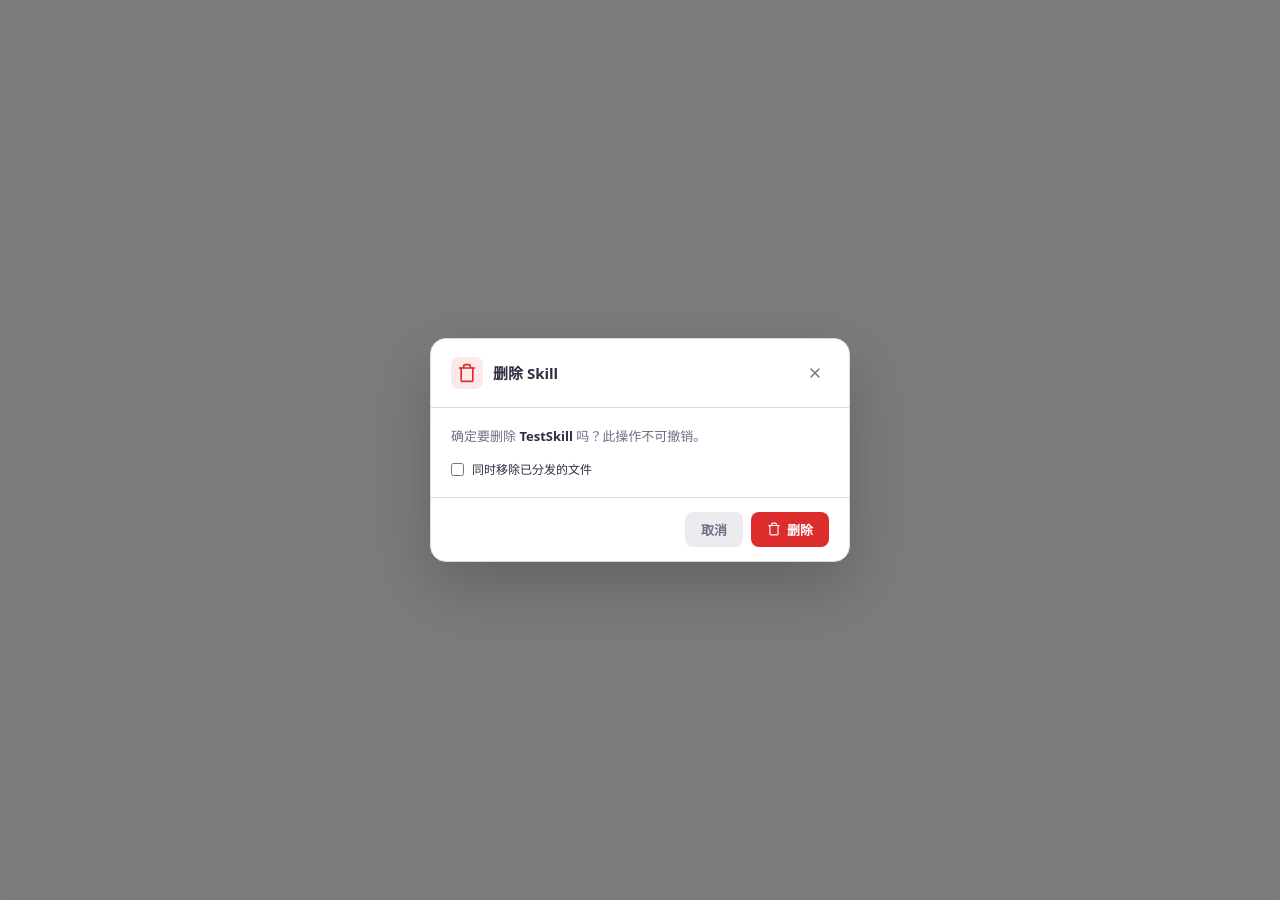
Test: ConfirmDeleteModal › checking remove distributed selects all platforms
Click the checkbox with class "remove-distributed-checkbox" at (458, 470), box x1=451 y1=463 x2=464 y2=476
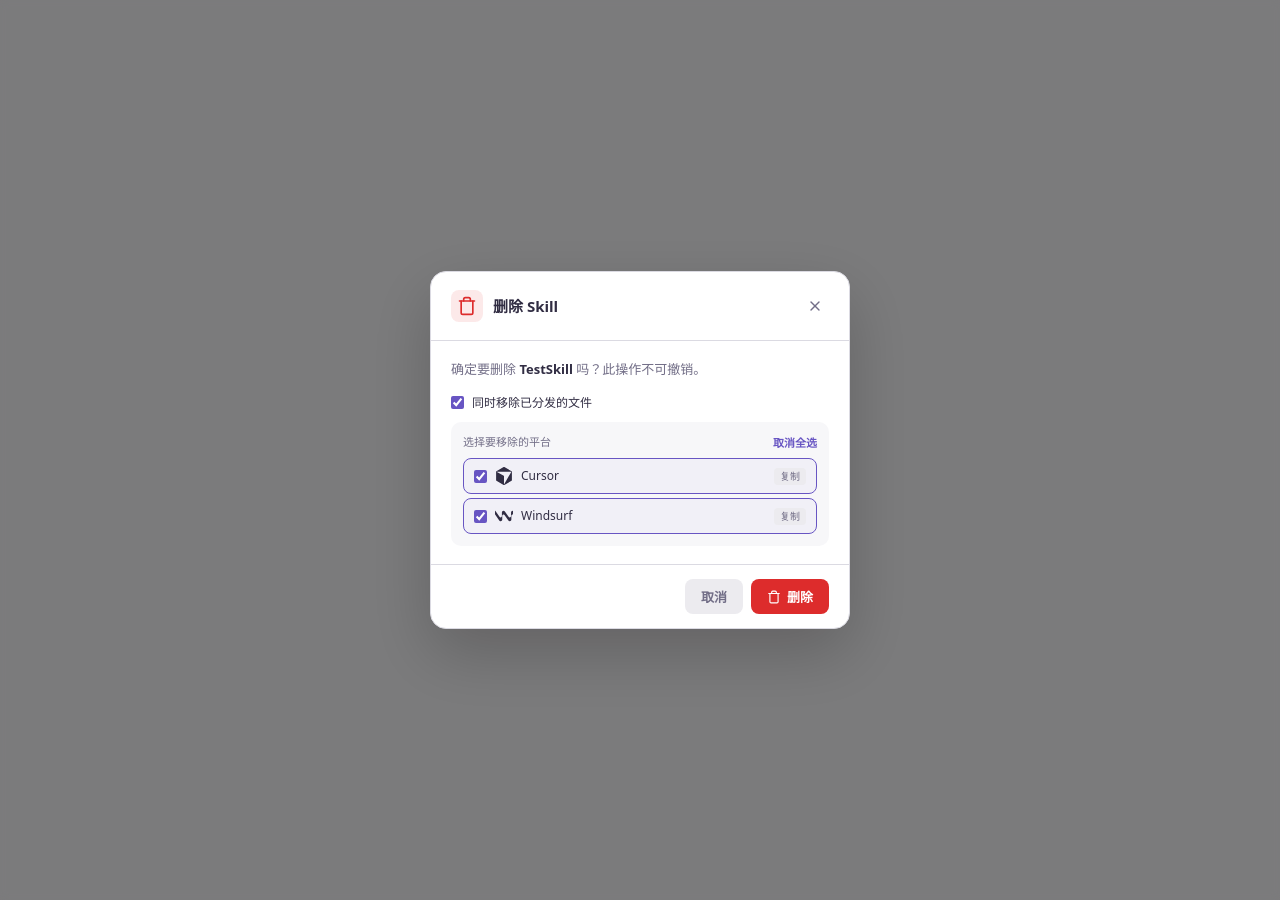
Result: the number of labels with class "checked" is 2 at x1=463 y1=458 x2=817 y2=494; x1=463 y1=498 x2=817 y2=534
